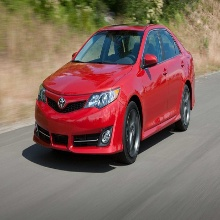no damage: (31, 24, 195, 164)
